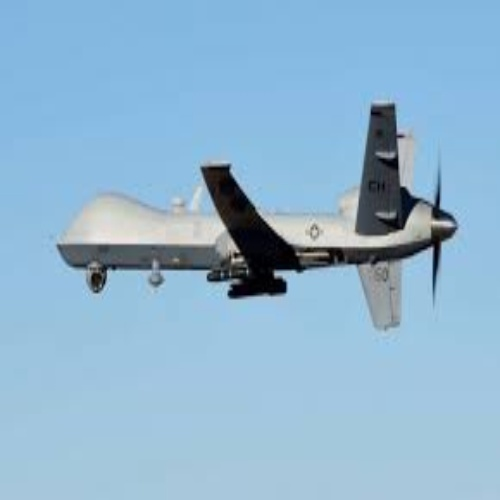uav17: (49, 100, 462, 331)
